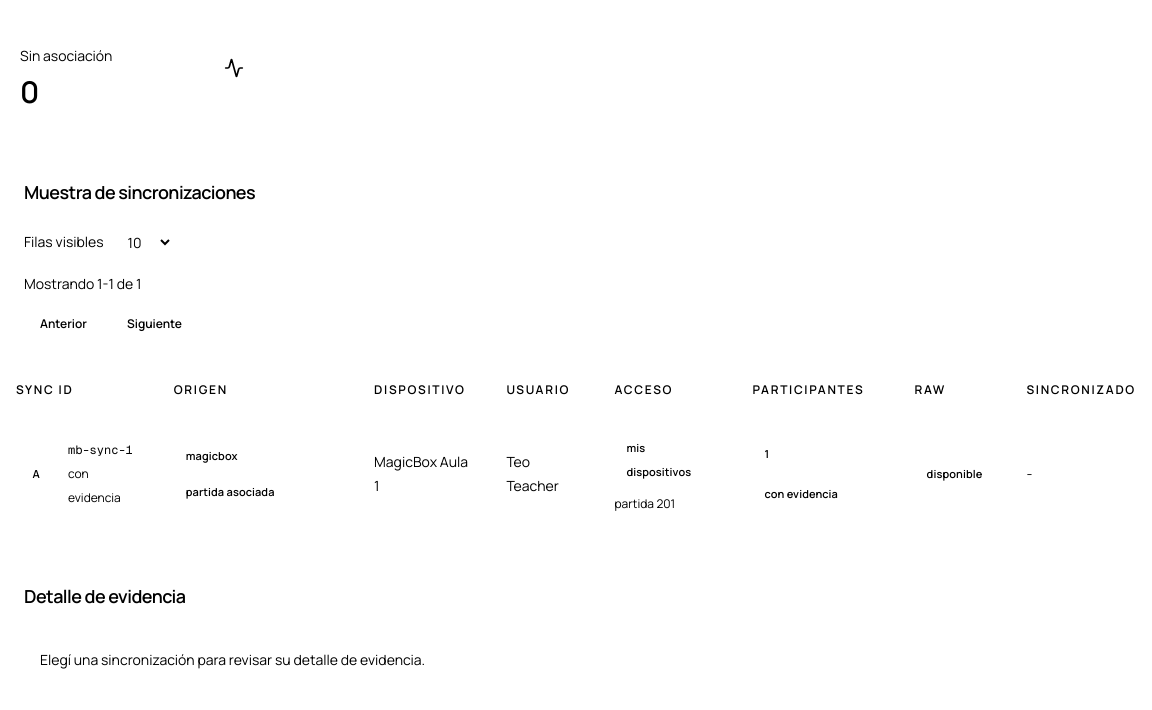
Test: SyncsTable › adapts copy for researcher sessions while preserving evidence detail
(page scrolled)
Click the text "mb-sync-1" at (105, 450), box [68,438,142,462]
(page scrolled)
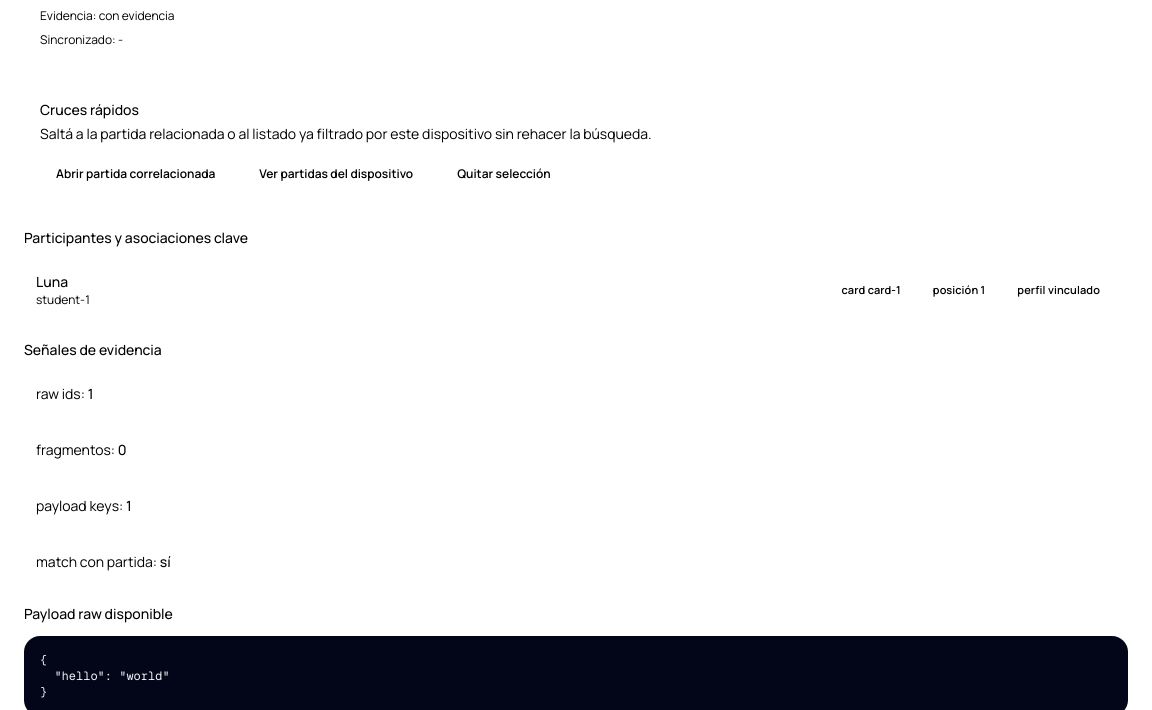
Check: the text "Participantes y asociaciones clave" is shown, box [24,228,248,247]
Check: the text "Señales de evidencia" is shown, box [24,340,162,359]
